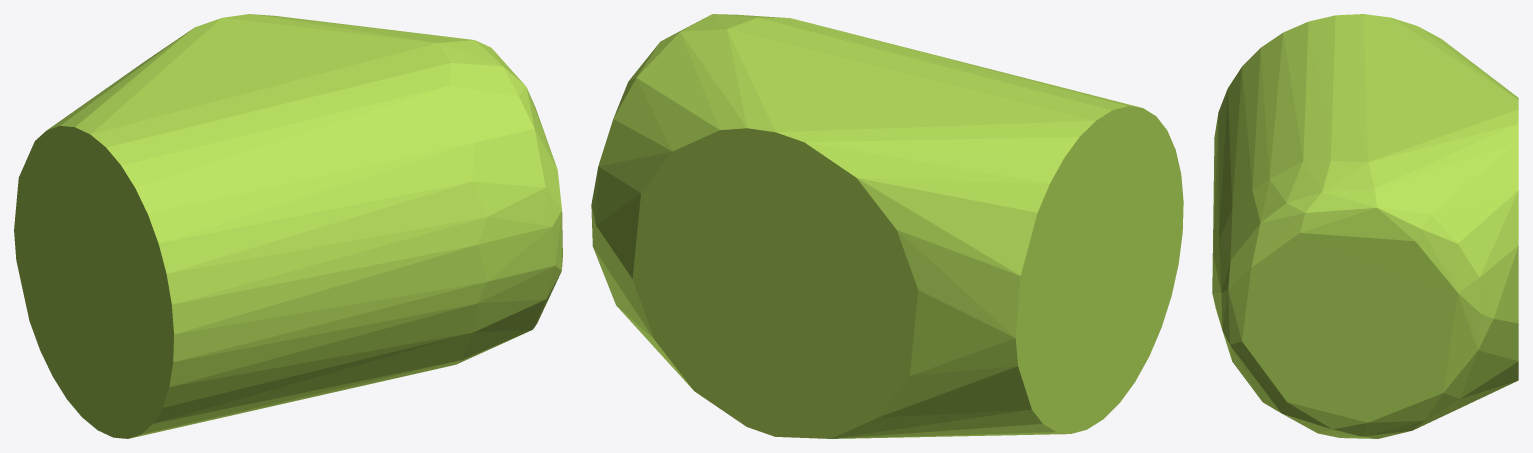
File: UR3_link_5_coll_1.dae
3 renders of one model, left to right at view 1: azimuth 30°, elevation 25°; view 2: azimuth 150°, elevation 25°; view 3: azimuth 270°, elevation 25°, orthographic. The views are drawn at different scales.
Parts seen in each view (by area): view 1: Node_000002D0E99FA340; view 2: Node_000002D0E99FA340; view 3: Node_000002D0E99FA340.
Part boxes in pixels (x1,y1,x2,y2): Node_000002D0E99FA340: (14,14,562,438); Node_000002D0E99FA340: (591,14,1183,438); Node_000002D0E99FA340: (1212,14,1518,438).
Bounding box in the file's own units: 0.0956 × 0.0652 × 0.0675.
